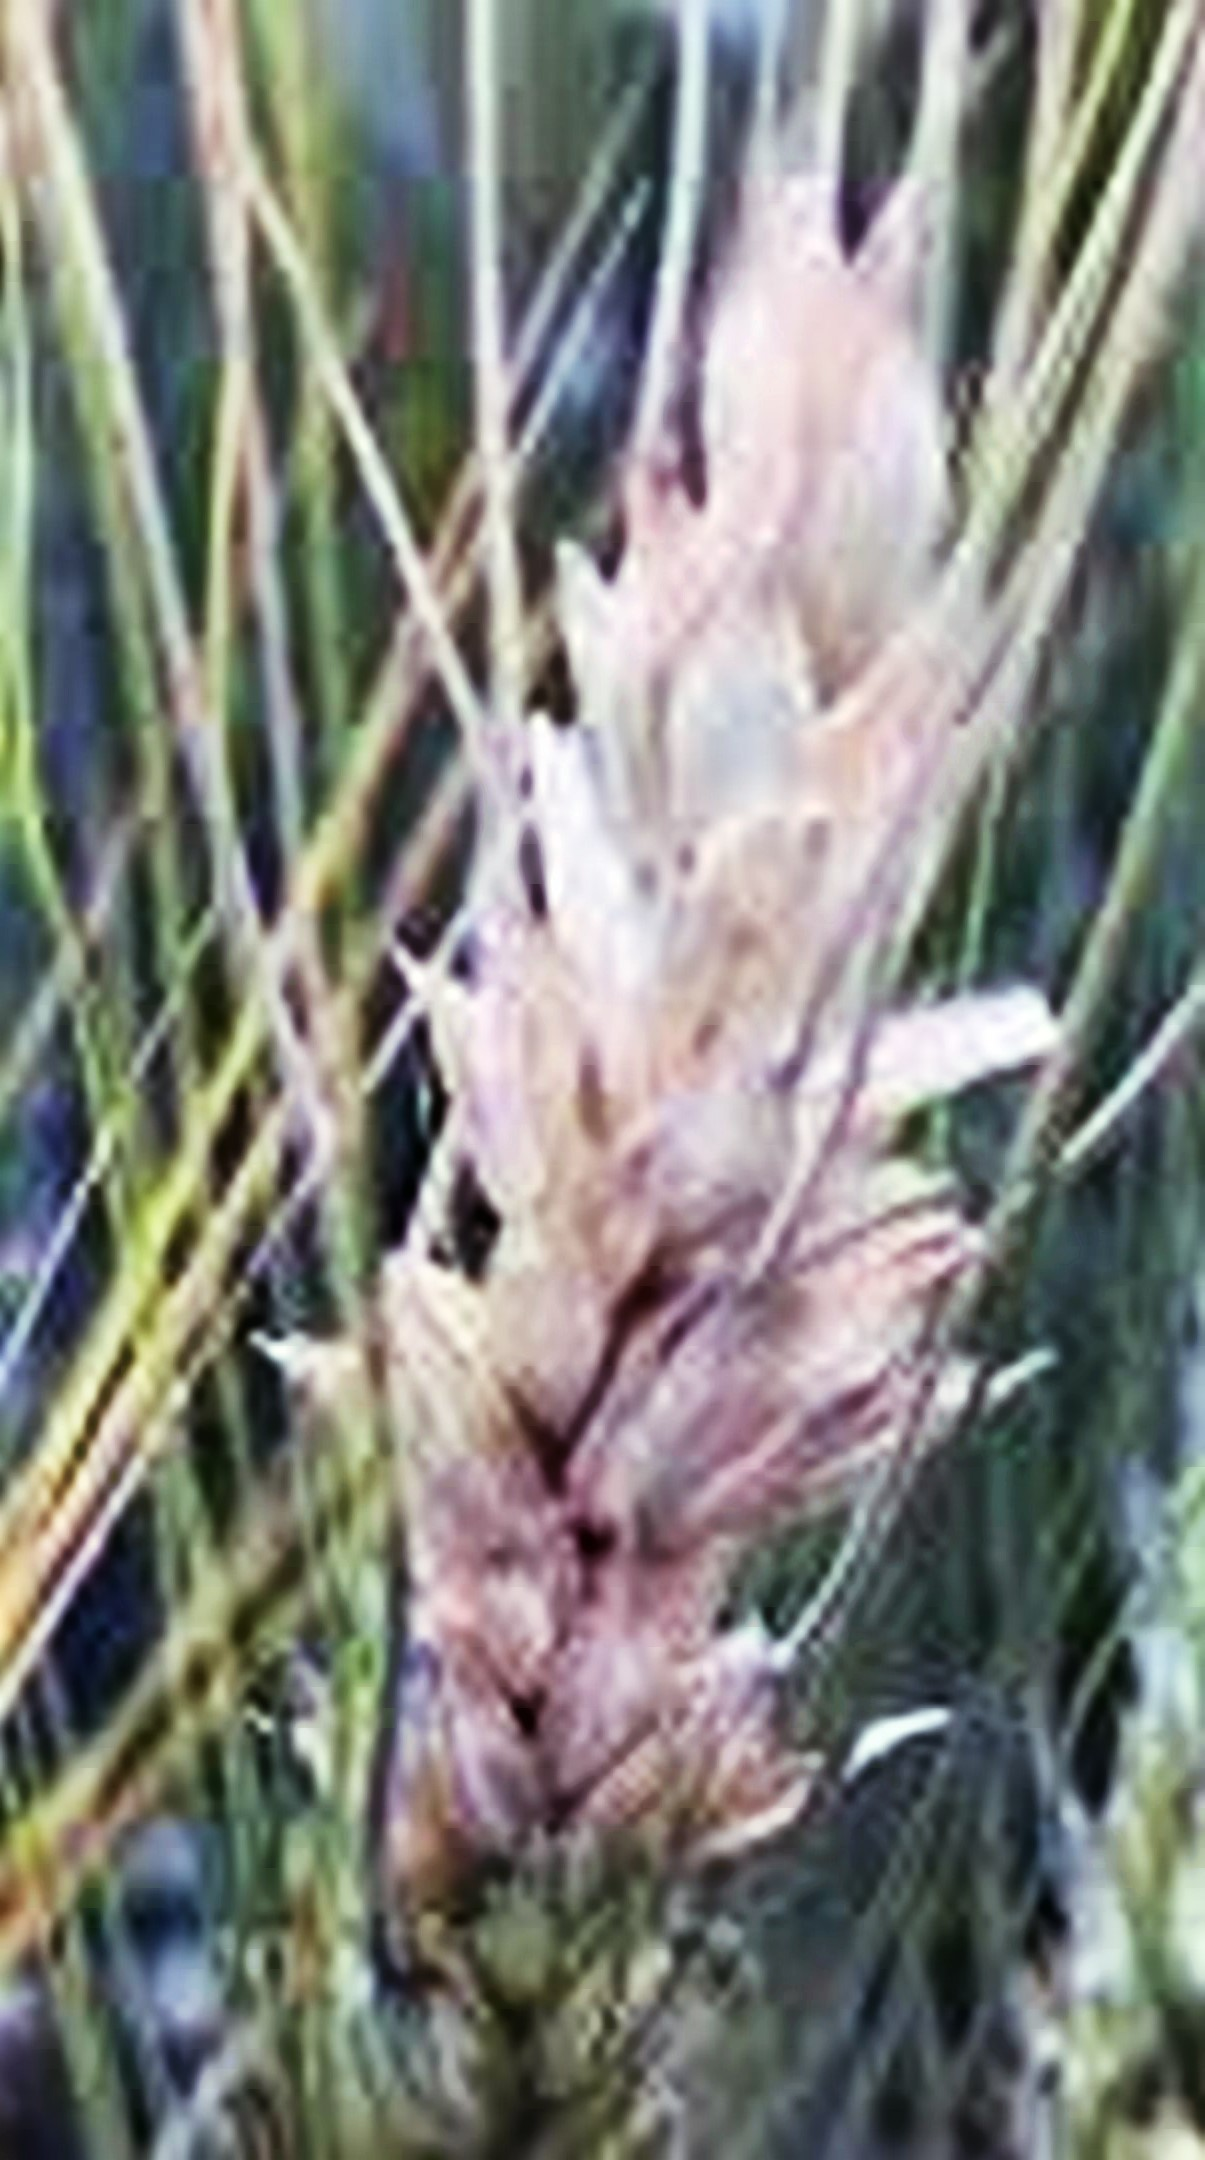Wheat scab: (344, 306, 1024, 2145)
